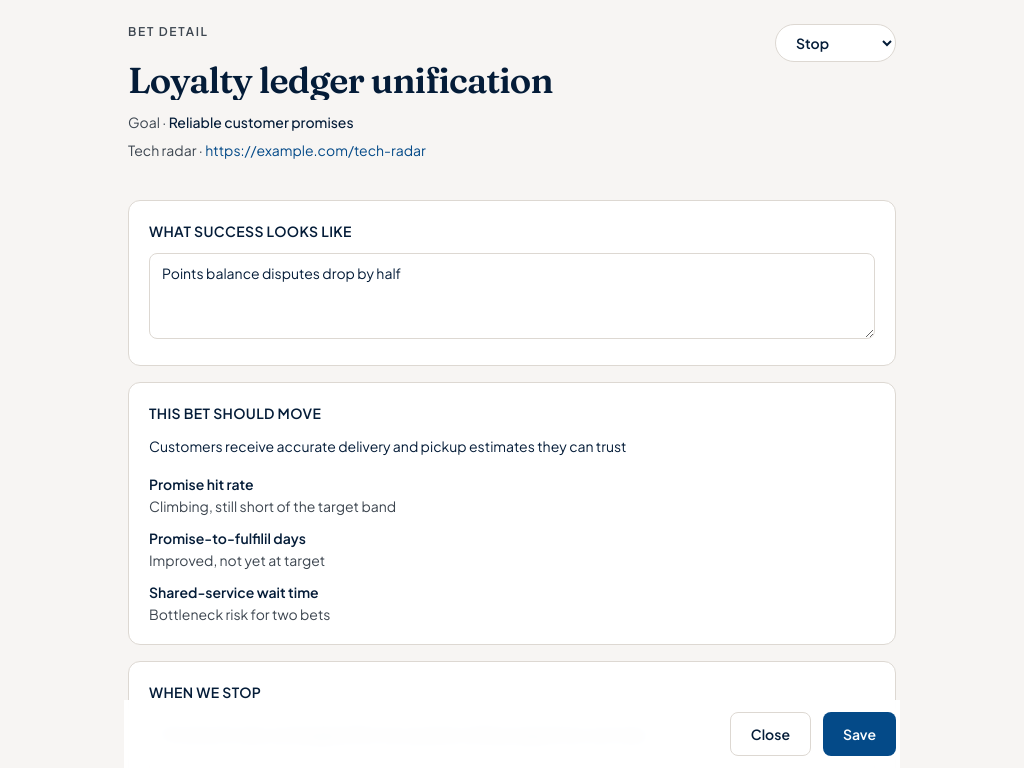
BetDetailView › blocks save when title is empty
Clear the field named "Bet title". click: [360, 80]
box: [128, 60, 592, 100]
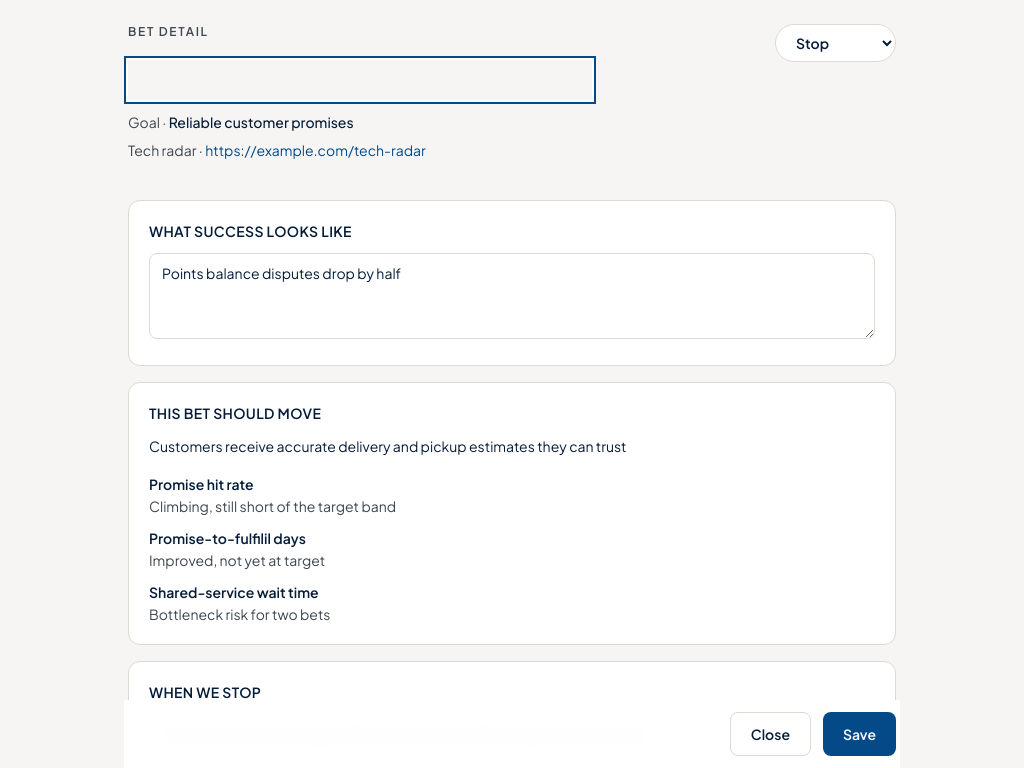
Click the button "Save". click: [860, 734]
box: [823, 712, 896, 756]
(page scrolled)
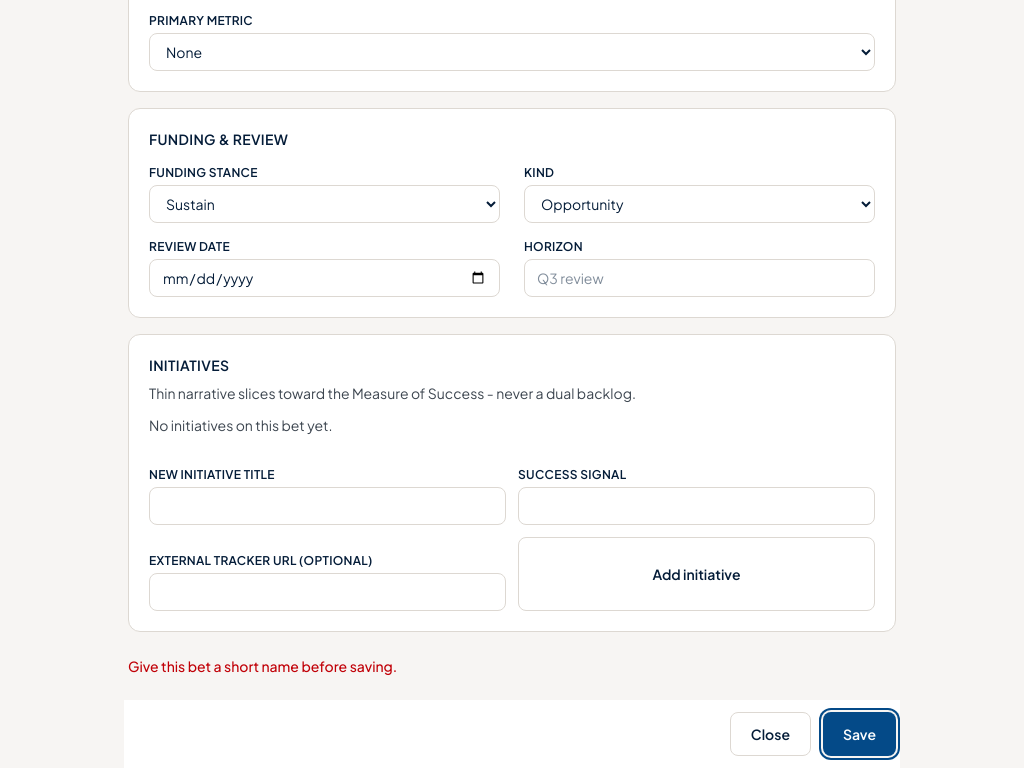
Expected: the text "Give this bet a short name before saving." is shown, [128, 657, 397, 675]
